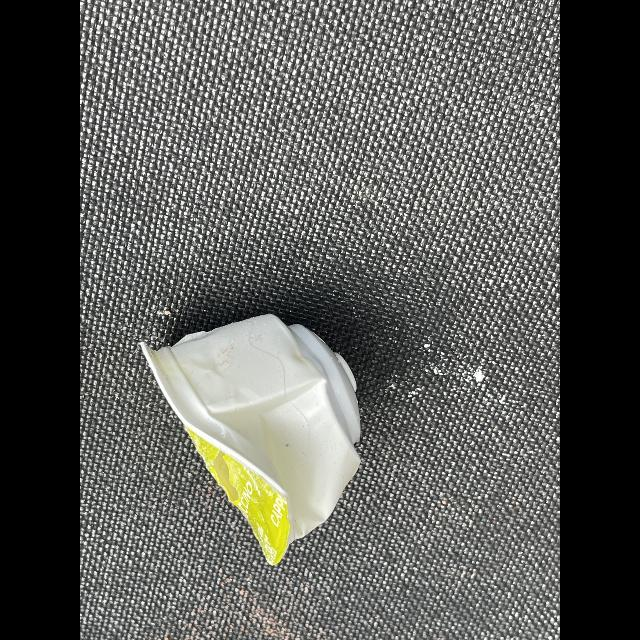damaged_capsule: (136, 299, 388, 576)
